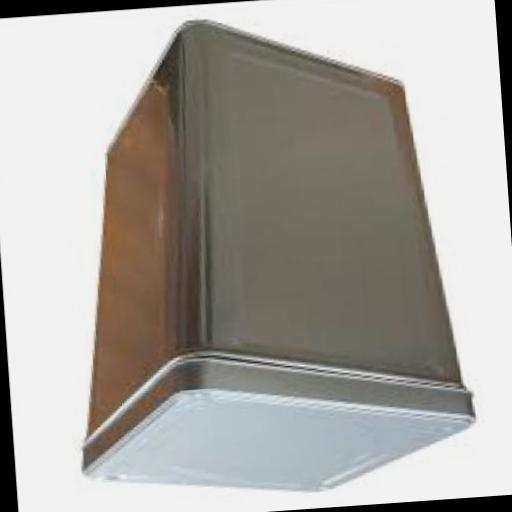metal: (48, 4, 476, 509)
